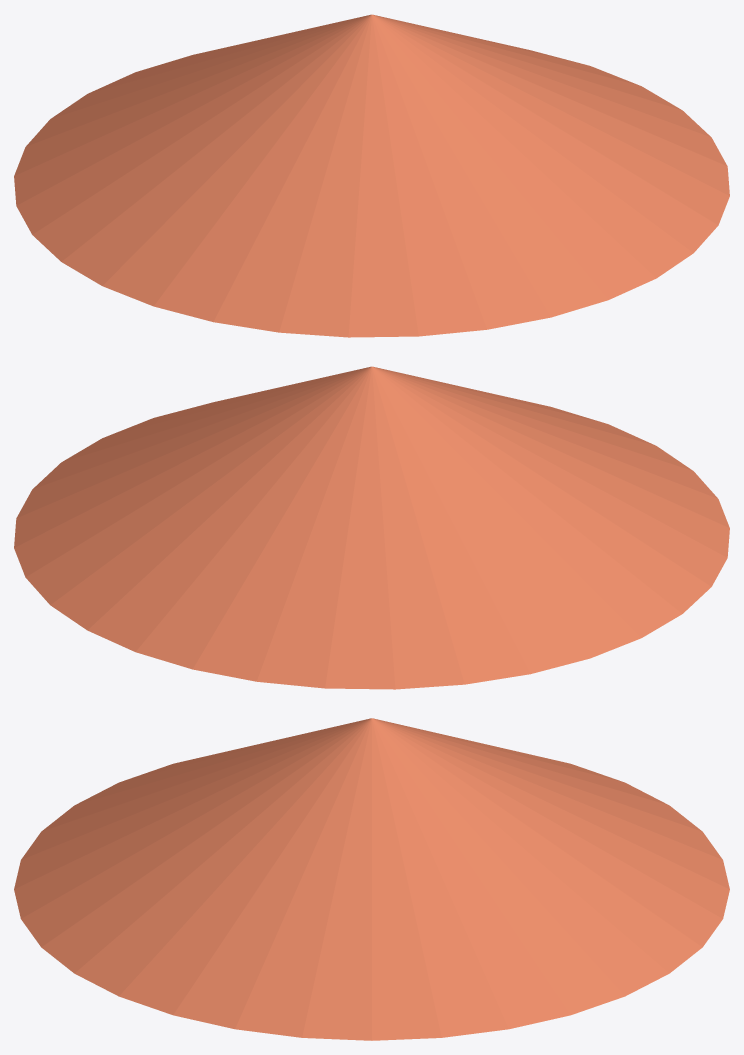
Rendered from Brownricee.fbx.
The picture shows the model from 3 angles, top to bottom: view 1: azimuth 30°, elevation 25°; view 2: azimuth 150°, elevation 25°; view 3: azimuth 270°, elevation 25°; orthographic projection.
Visible parts, largest first — view 1: Cone; view 2: Cone; view 3: Cone.
Boxes of the visible parts, x1=… form: Cone: x1=14, y1=14, x2=729, y2=337; Cone: x1=14, y1=366, x2=729, y2=689; Cone: x1=14, y1=718, x2=729, y2=1040.
Bounding box in the file's own units: 757 × 200 × 757.
